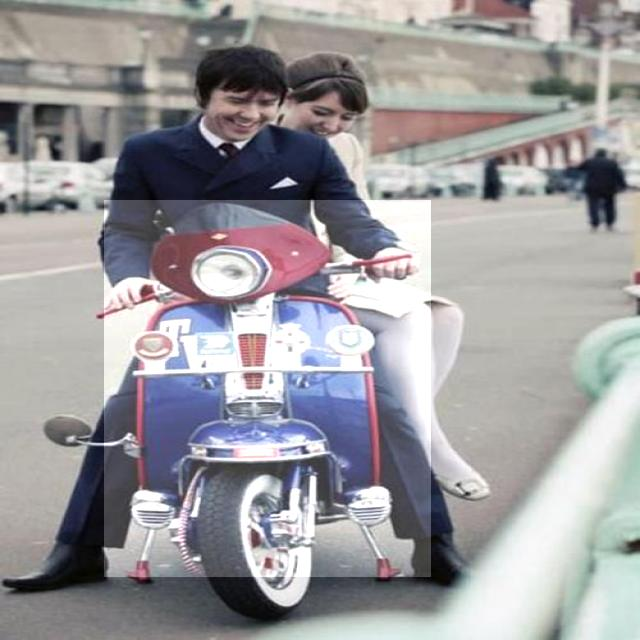Bike: (104, 200, 431, 577)
